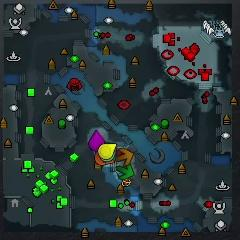p3: (90, 131, 106, 152)
p4: (100, 142, 117, 159)
p5: (95, 153, 115, 166)
x4: (116, 165, 134, 180)
x5: (114, 148, 135, 166)
